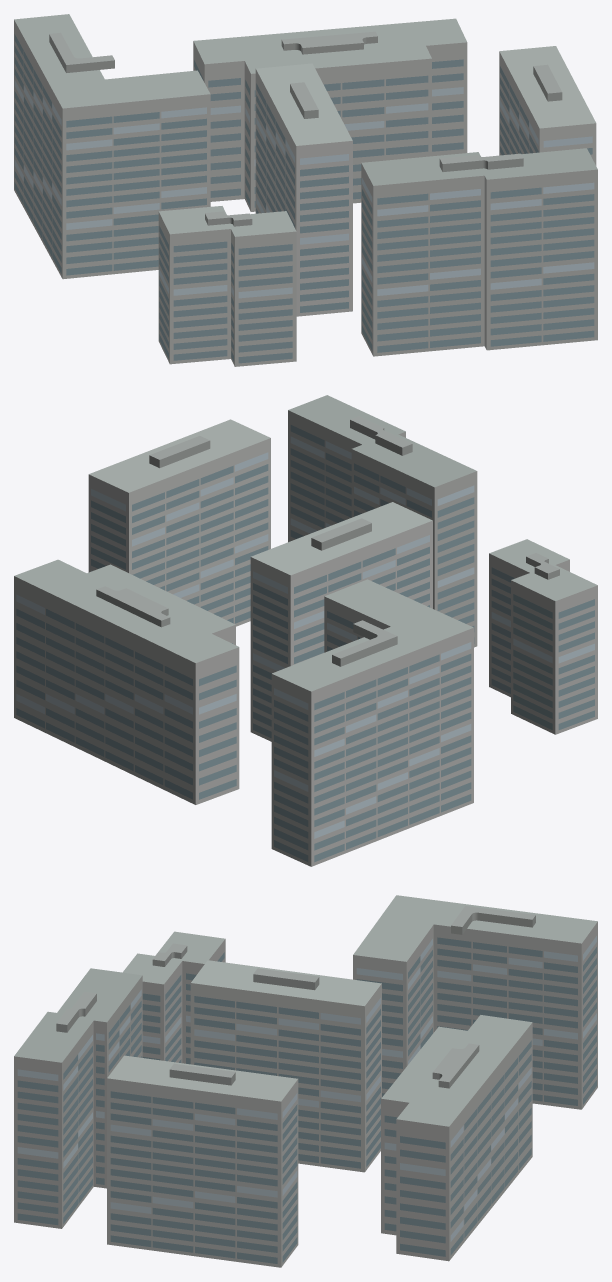
Rendered from apt-a15786222.glb.
3 views of the same model, one above another, from view 1: azimuth 30°, elevation 25°; view 2: azimuth 150°, elevation 25°; view 3: azimuth 270°, elevation 25° (orthographic). The views are drawn at different scales.
Parts seen in each view (by area): view 1: apt-a15786222; view 2: apt-a15786222; view 3: apt-a15786222.
Boxes of the visible parts, <box> form: apt-a15786222: <box>14,14,597,366</box>; apt-a15786222: <box>14,395,597,866</box>; apt-a15786222: <box>14,895,597,1267</box>.
Bounding box in the file's own units: 108 × 42 × 128.
